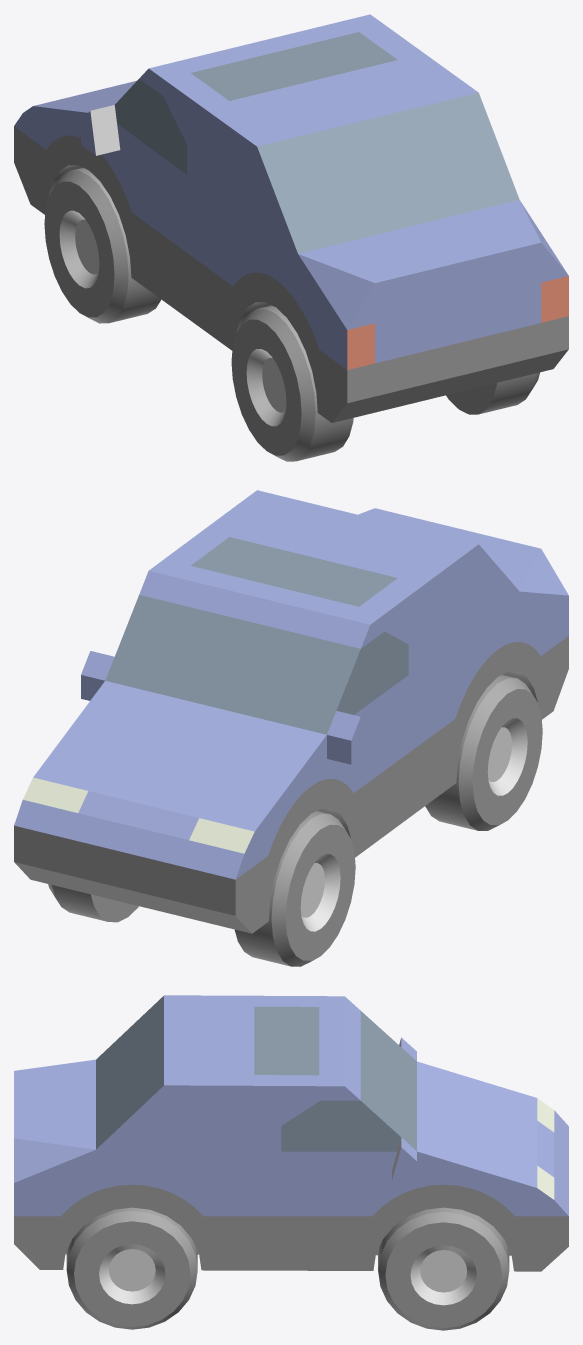
Rendered from carLuxury.gltf.
The picture shows the model from 3 angles, top to bottom: view 1: azimuth 30°, elevation 25°; view 2: azimuth 150°, elevation 25°; view 3: azimuth 270°, elevation 25°; orthographic projection. The views are drawn at different scales.
Visible parts, largest first — view 1: body 5, wheelBackLeft 5, wheelFrontLeft 5, wheelBackRight 5; view 2: body 5, wheelFrontLeft 5, wheelBackLeft 5, wheelFrontRight 5; view 3: body 5, wheelFrontRight 5, wheelBackRight 5.
Boxes of the visible parts, x1,y1,x2,y2 form: body 5: (14, 14, 568, 422); wheelBackLeft 5: (231, 305, 353, 461); wheelFrontLeft 5: (44, 167, 161, 323); wheelBackRight 5: (446, 372, 539, 414); body 5: (14, 490, 568, 933); wheelFrontLeft 5: (234, 811, 355, 966); wheelBackLeft 5: (425, 675, 542, 830); wheelFrontRight 5: (48, 884, 138, 922); body 5: (14, 995, 568, 1271); wheelFrontRight 5: (378, 1207, 509, 1330); wheelBackRight 5: (66, 1207, 197, 1329).
Bounding box in the file's own units: 0.555 × 0.5803 × 1.18.
